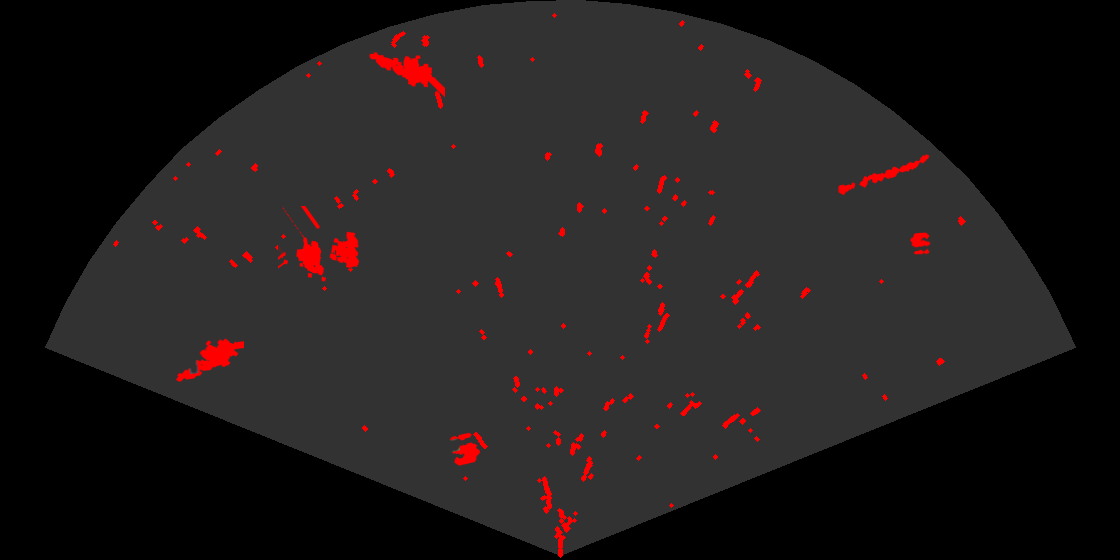ball: (448, 431, 482, 467), (909, 231, 932, 256)
cage: (278, 206, 361, 283)
chain: (836, 153, 931, 197)
frogman: (368, 51, 445, 99), (174, 337, 244, 383)
